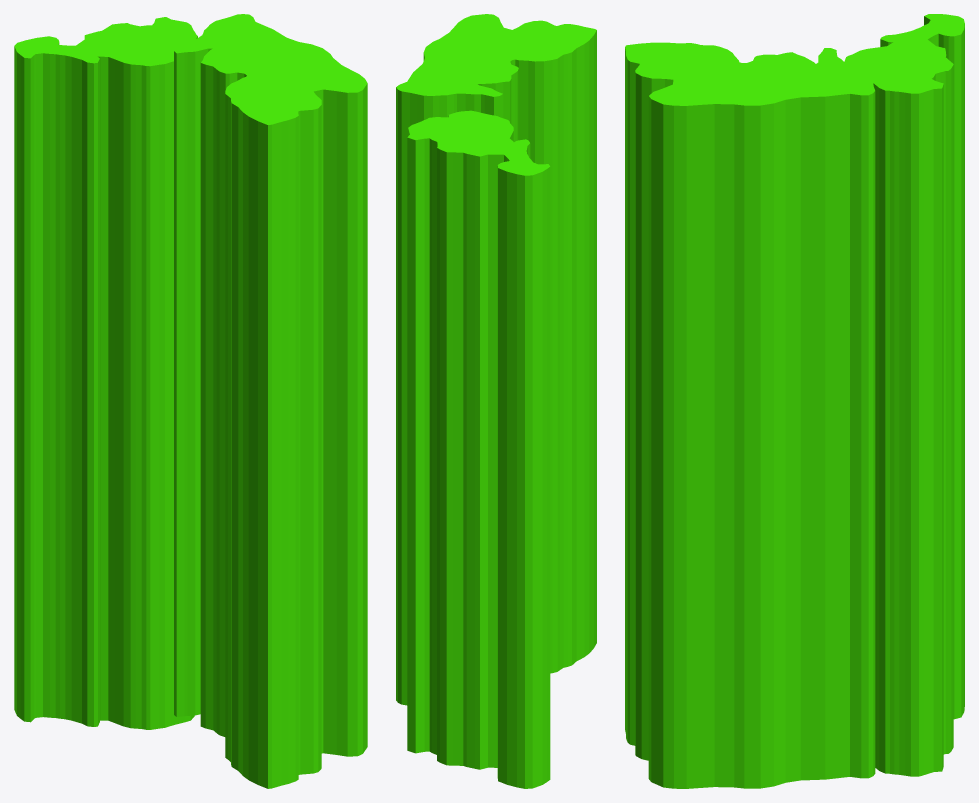
File: wood_area0101.dae
3 views of the same model, side by side, from view 1: azimuth 30°, elevation 25°; view 2: azimuth 150°, elevation 25°; view 3: azimuth 270°, elevation 25° (orthographic). The views are drawn at different scales.
Parts seen in each view (by area): view 1: Object_007, Object_006; view 2: Object_006, Object_007; view 3: Object_007, Object_006.
Boxes of the visible parts, <box> form: Object_007: <box>174,14,367,788</box>; Object_006: <box>14,17,197,729</box>; Object_006: <box>407,110,550,788</box>; Object_007: <box>396,14,596,705</box>; Object_007: <box>625,42,875,788</box>; Object_006: <box>844,14,964,776</box>.
Size of the model in its own units: 127 by 167 by 379.
